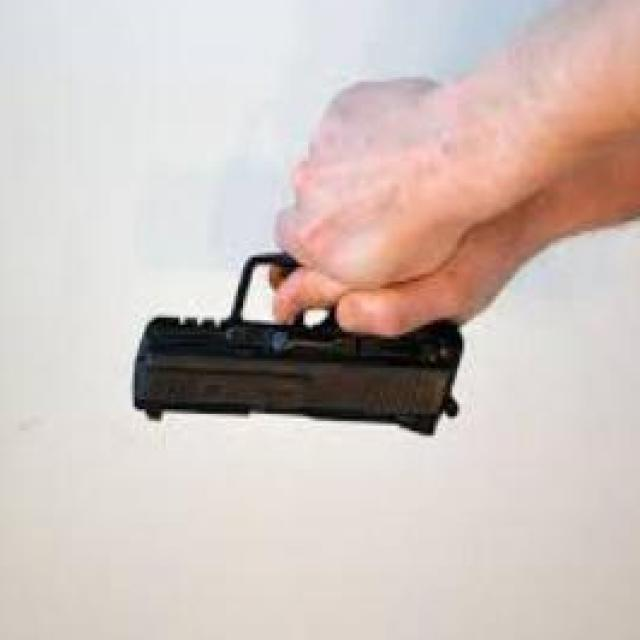pistol: (137, 248, 460, 447)
